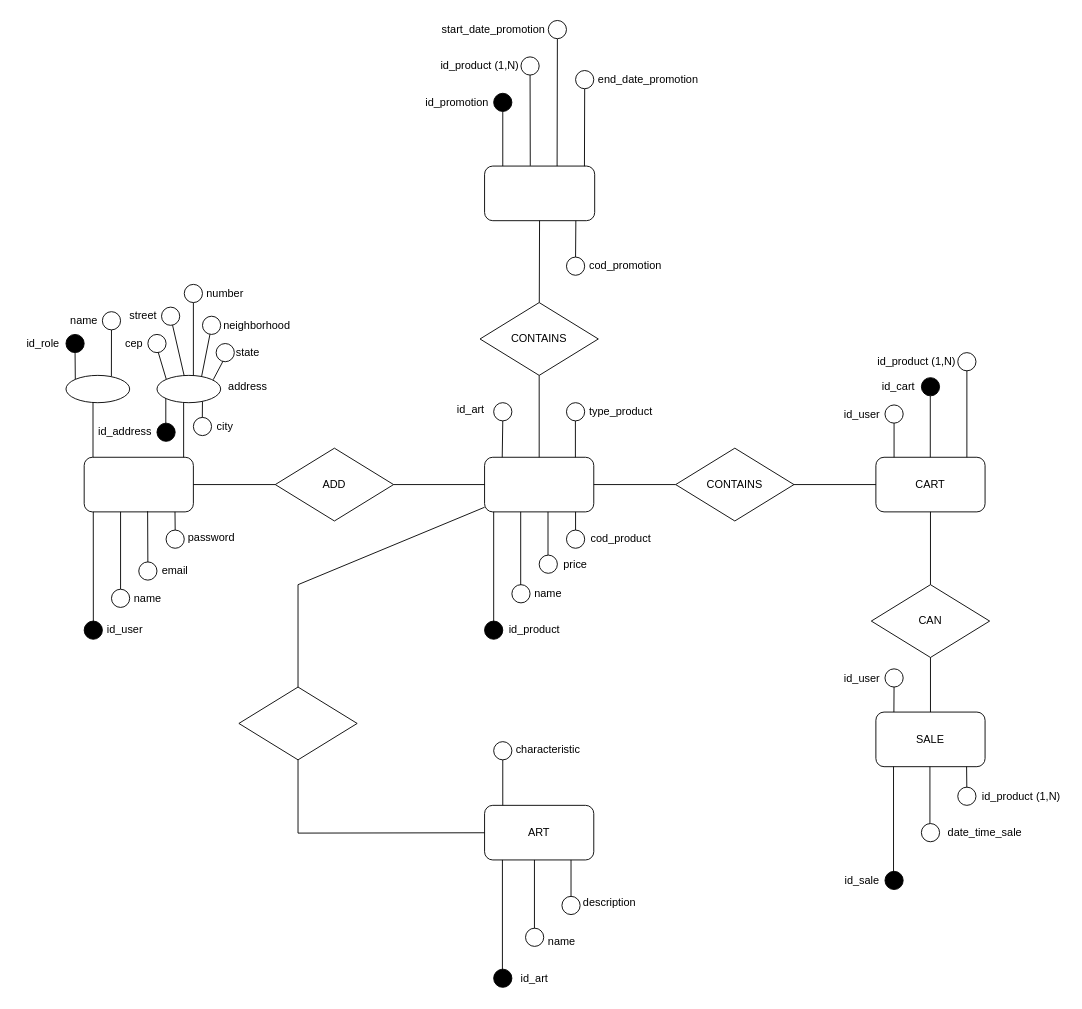
This 1082x1009 diagram has some shape labels left out. Each missing label, with the centre of its shape:
"IS PART OF" goes at [297,723].
"PRODUCT" goes at [539,484].
"PROMOTION" goes at [539,193].
"USER" goes at [138,484].
